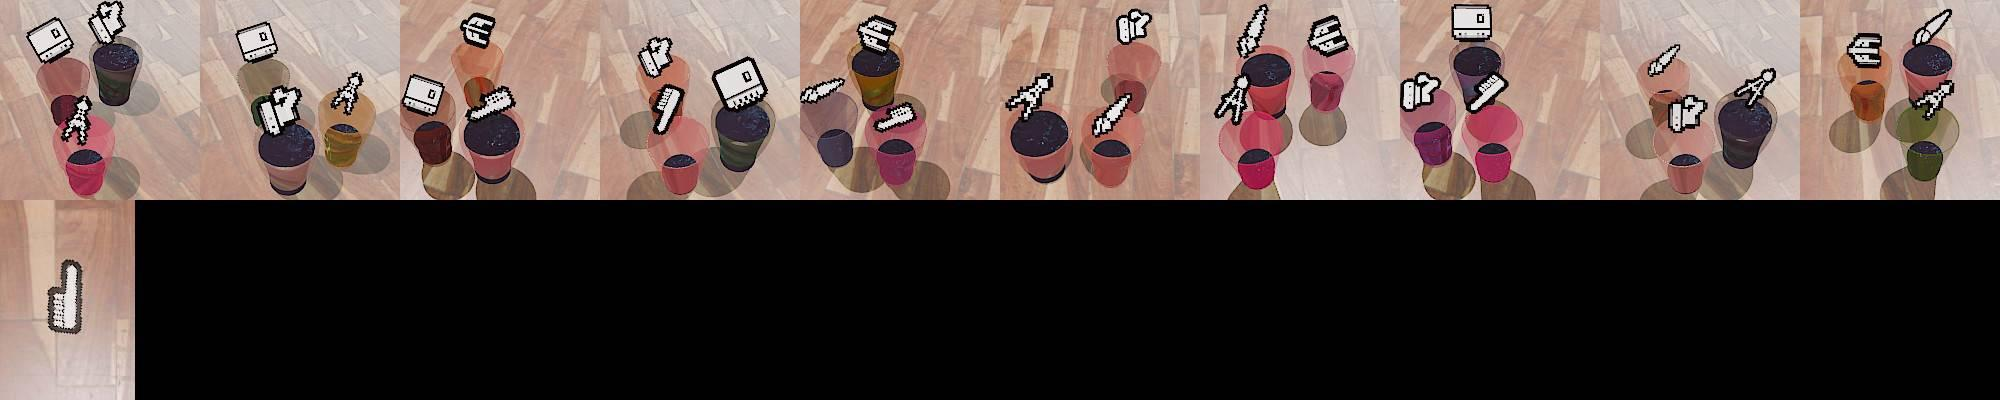icon: (712, 55, 768, 112), (47, 257, 84, 334), (251, 84, 302, 138), (24, 15, 75, 66), (1006, 71, 1055, 120), (402, 70, 448, 116), (235, 22, 281, 66), (1306, 11, 1349, 57), (1214, 73, 1253, 124), (1093, 92, 1134, 139), (1237, 4, 1270, 61), (1467, 71, 1510, 115), (855, 11, 897, 56), (1735, 66, 1777, 110), (1913, 76, 1957, 117), (88, 0, 126, 46), (651, 84, 685, 135), (1401, 70, 1441, 112), (1667, 93, 1708, 134), (1452, 3, 1494, 42), (638, 34, 675, 79), (1912, 8, 1953, 47), (62, 94, 93, 146), (330, 69, 365, 115), (872, 99, 918, 134), (798, 75, 846, 106), (1846, 32, 1883, 69), (459, 11, 495, 50), (1116, 8, 1152, 46), (473, 87, 515, 118), (1647, 42, 1681, 79)
